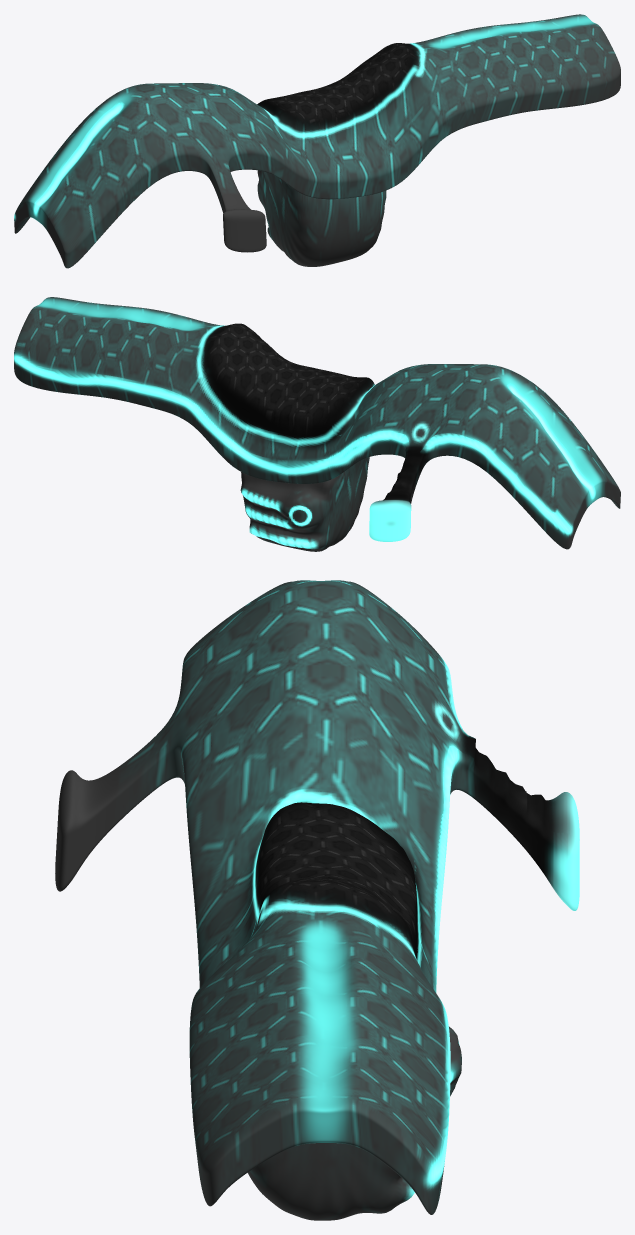
The model's file is Bike_Body.fbx.
3 views of the same model, one above another, from view 1: azimuth 30°, elevation 25°; view 2: azimuth 150°, elevation 25°; view 3: azimuth 270°, elevation 25° (orthographic). The views are drawn at different scales.
Parts seen in each view (by area): view 1: Bike_Cylindar2; view 2: Bike_Cylindar2; view 3: Bike_Cylindar2.
Boxes of the visible parts, left/top/right/bottom form: Bike_Cylindar2: left=14, top=14, right=620, bottom=268; Bike_Cylindar2: left=14, top=297, right=620, bottom=551; Bike_Cylindar2: left=55, top=580, right=579, bottom=1220.
Bounding box in the file's own units: 34.55 × 12.81 × 14.11.
